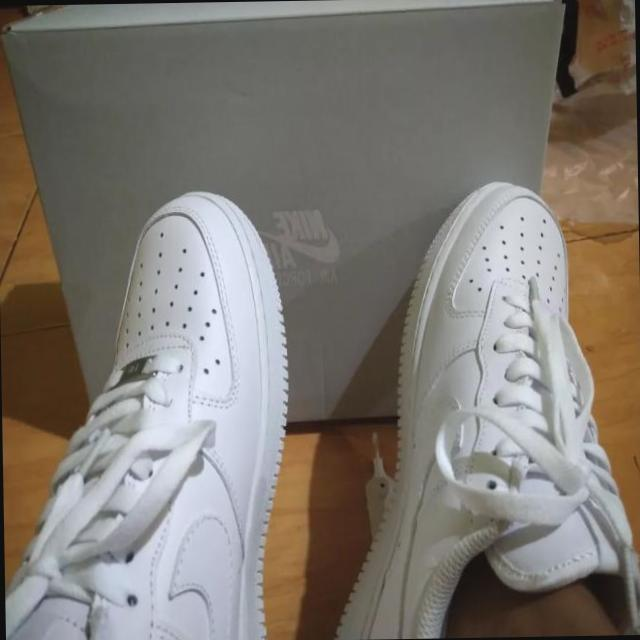nike_original_airforce: (326, 182, 640, 639), (0, 185, 293, 640)
